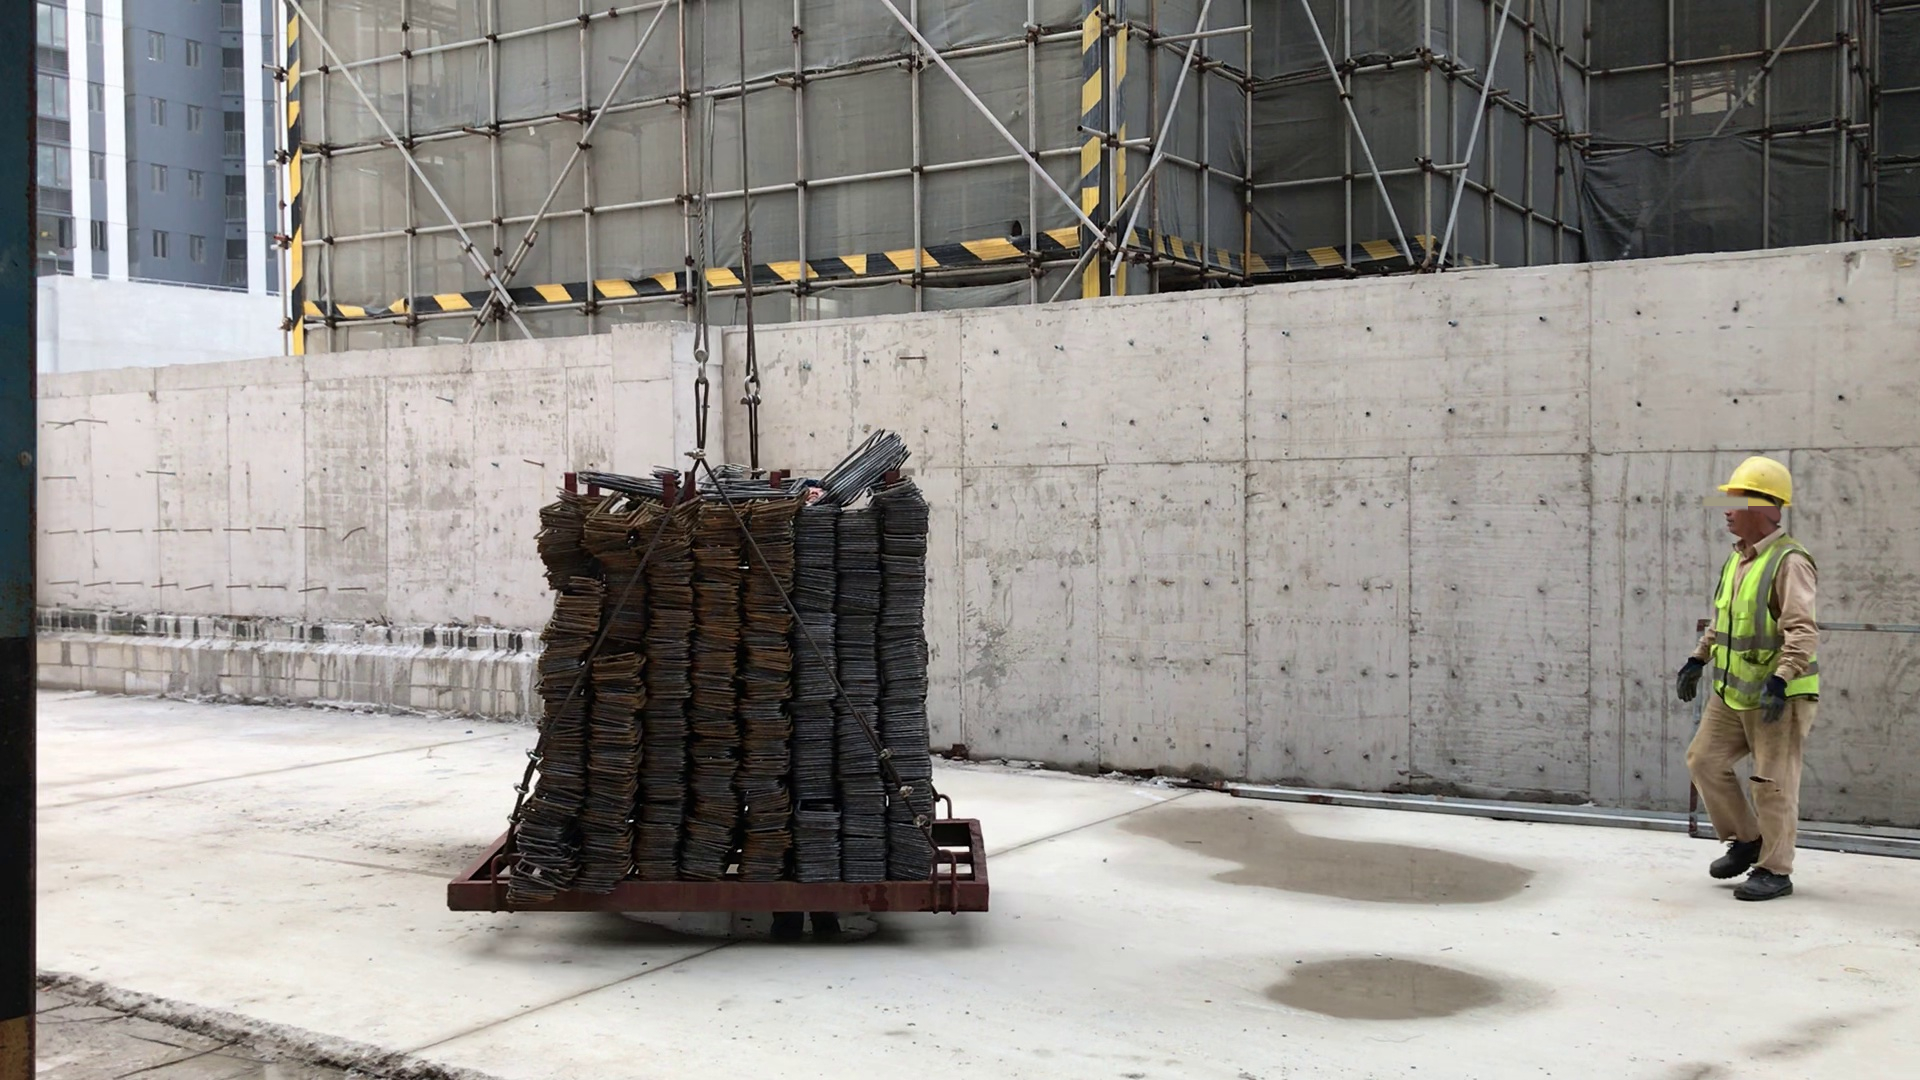helmet: (1715, 451, 1804, 515)
person: (1679, 444, 1832, 907)
vest: (1698, 538, 1819, 703)
